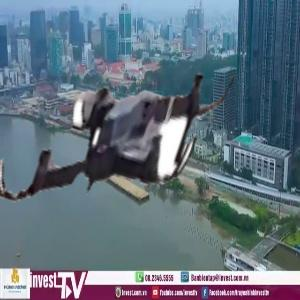drone: (4, 33, 218, 247)
